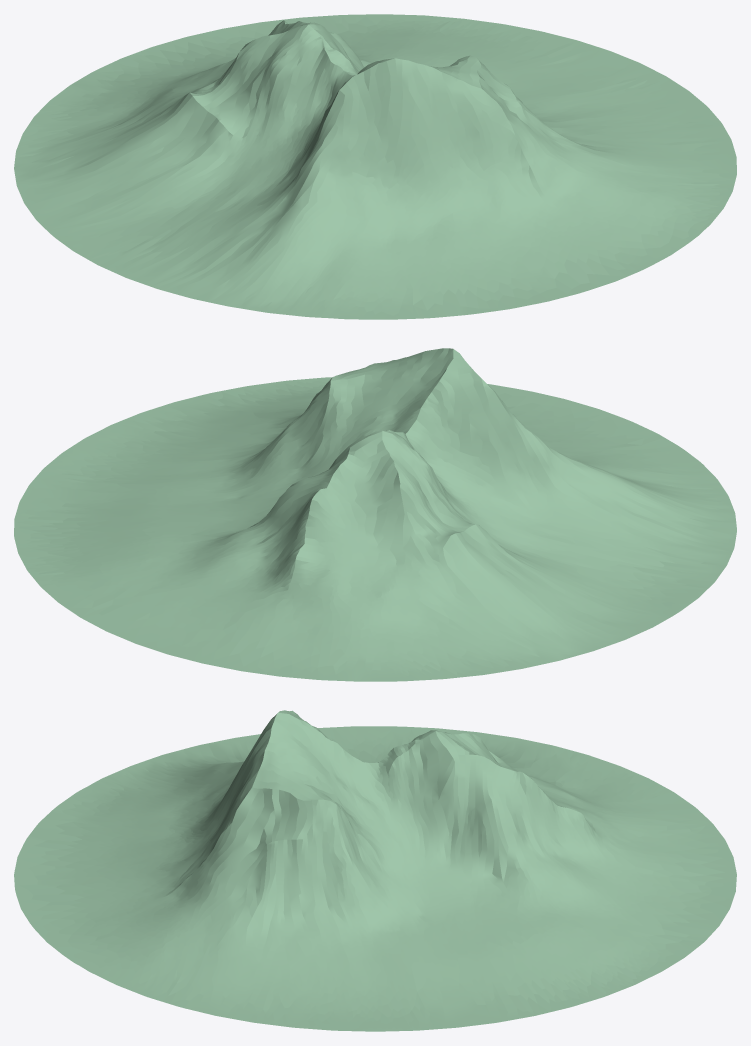
The model's file is volcano_D_small_circle.fbx.
3 views of the same model, one above another, from view 1: azimuth 30°, elevation 25°; view 2: azimuth 150°, elevation 25°; view 3: azimuth 270°, elevation 25° (orthographic).
Visible parts, largest first — view 1: volcano_D_small_circle; view 2: volcano_D_small_circle; view 3: volcano_D_small_circle.
Part boxes in pixels (box(x1,y1,x2,y2)): volcano_D_small_circle: box(14, 14, 736, 319); volcano_D_small_circle: box(14, 348, 736, 681); volcano_D_small_circle: box(14, 710, 736, 1031).
Bounding box in the file's own units: 7051 × 1642 × 7054.
